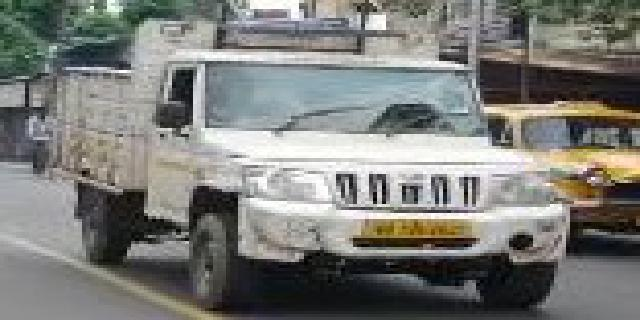Car: (487, 98, 640, 236)
Minitruck: (45, 13, 569, 314)
